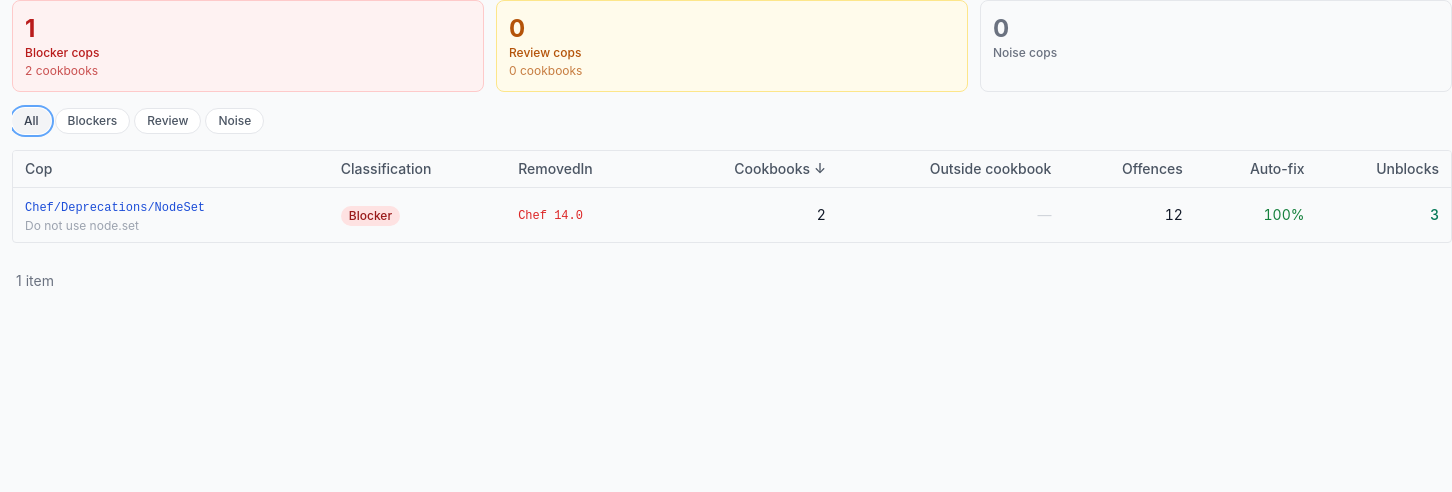
Scenario: CopAnalysisTab › server drill-down groups by name and expands to version/org detail
This screenshot has width=1452, height=492.
# Expand the cop → grouped-by-name drill-down.
Click the button "Chef/Deprecations/NodeSet".
click(115, 208)  # box [25,200,205,216]
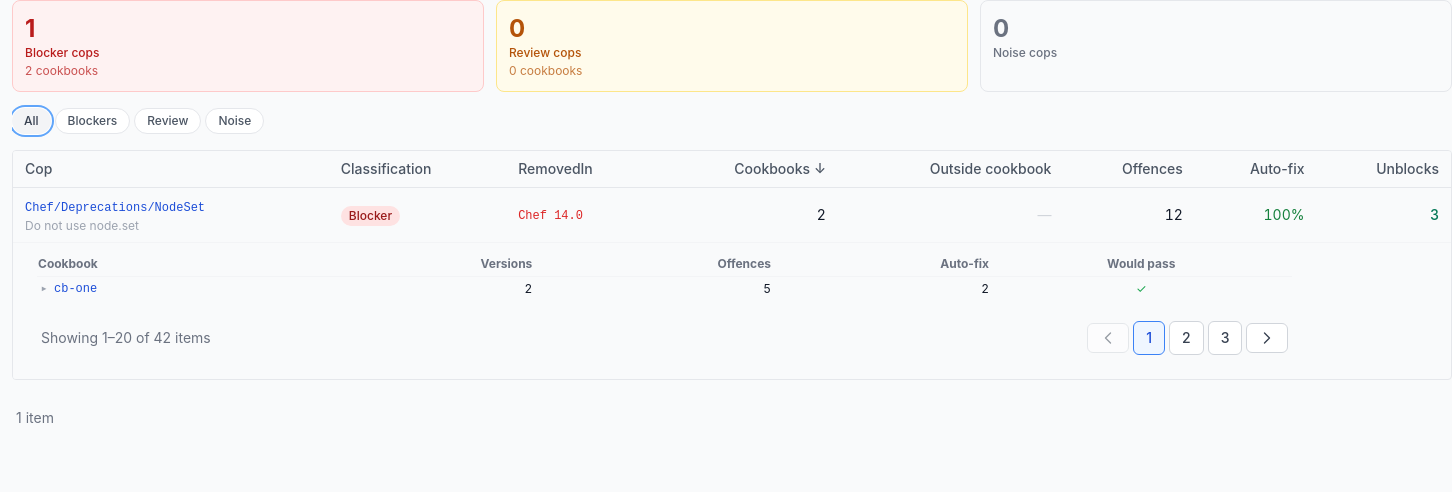
Expected: the text "2.0.0" is not shown
Result: the link "cb-one" is shown at [54,281,97,297]
# Expand the cookbook name → its version/org rows (caret, not the name link).
Click the button named "expand versions".
click(44, 289)  # box [38,281,50,297]
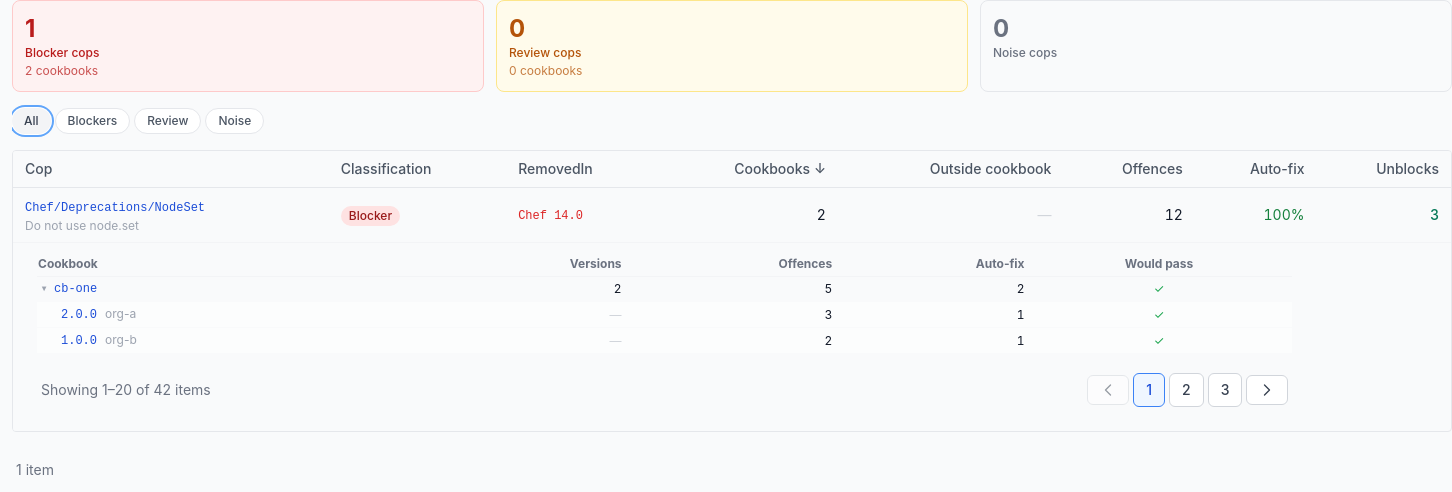
Result: the link "2.0.0" is shown at [61,308,97,322]
Result: the text "org-a" is shown at [105,306,136,321]
Result: the link "1.0.0" is shown at [61,334,97,348]
